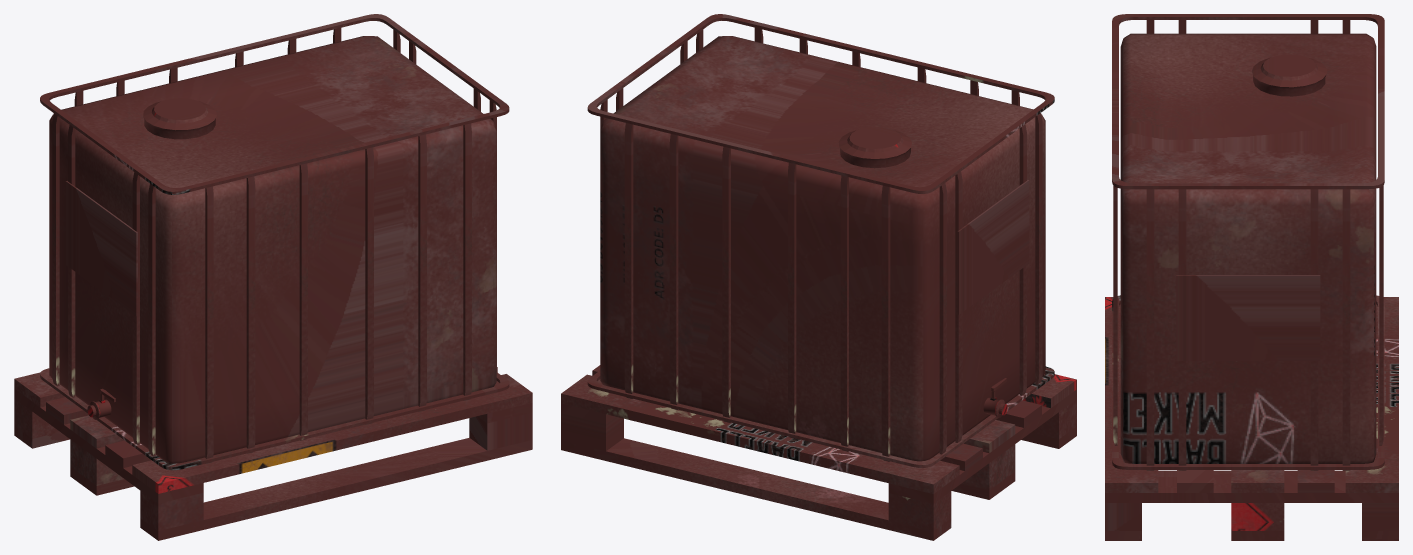
File: CS_IBC_container.FBX
The picture shows the model from 3 angles, left to right: view 1: azimuth 30°, elevation 25°; view 2: azimuth 150°, elevation 25°; view 3: azimuth 270°, elevation 25°; orthographic projection. The views are drawn at different scales.
Parts seen in each view (by area): view 1: SM_IBC_container; view 2: SM_IBC_container; view 3: SM_IBC_container.
Boxes of the visible parts, x1,y1,x2,y2 form: SM_IBC_container: [14, 14, 532, 540]; SM_IBC_container: [561, 14, 1076, 540]; SM_IBC_container: [1105, 14, 1398, 540].
Size of the model in its own units: 144 by 96 by 125.
